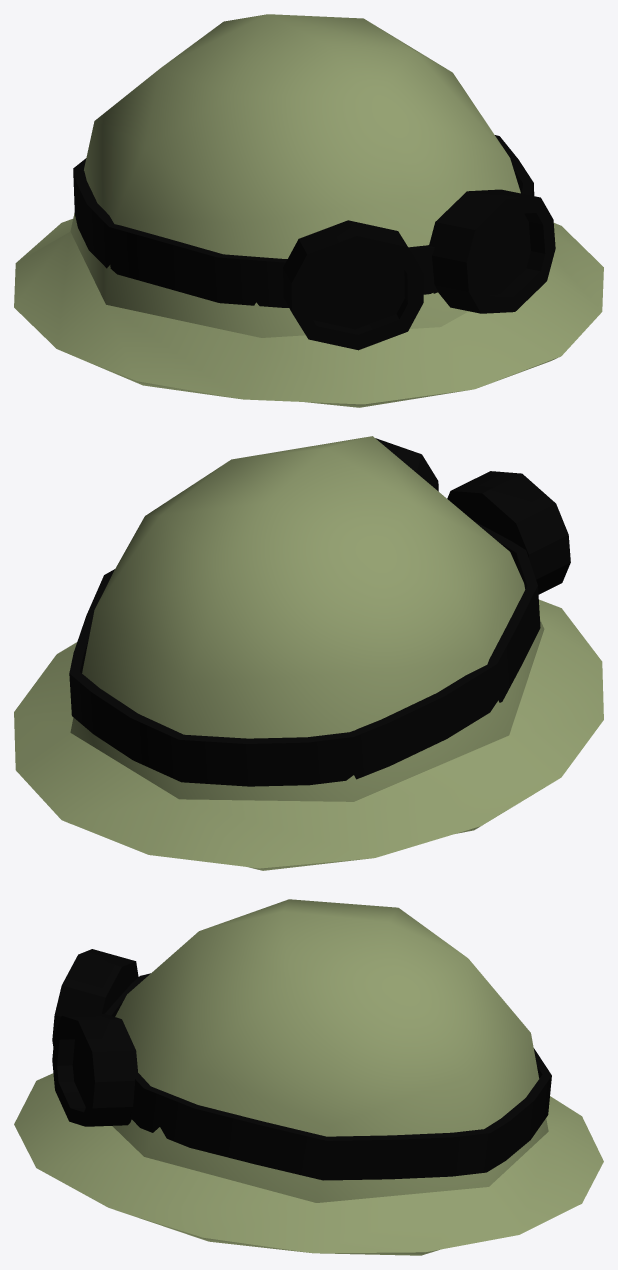
The model's file is Basic_Soldier_Helmet_Type_3.fbx.
3 views of the same model, one above another, from view 1: azimuth 30°, elevation 25°; view 2: azimuth 150°, elevation 25°; view 3: azimuth 270°, elevation 25° (orthographic). The views are drawn at different scales.
Parts seen in each view (by area): view 1: Basic_Soldier_Helmet_Type_3; view 2: Basic_Soldier_Helmet_Type_3; view 3: Basic_Soldier_Helmet_Type_3.
Part boxes in pixels (bbox=[...]): Basic_Soldier_Helmet_Type_3: bbox=[14, 14, 603, 407]; Basic_Soldier_Helmet_Type_3: bbox=[14, 436, 603, 870]; Basic_Soldier_Helmet_Type_3: bbox=[14, 899, 603, 1255].
Size of the model in its own units: 29.59 by 15.83 by 33.15.
